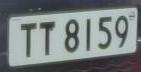1: (82, 13, 97, 58)
5: (93, 12, 115, 50)
8: (61, 15, 84, 59)
9: (112, 12, 131, 50)
T: (36, 19, 63, 62), (17, 20, 40, 64)
